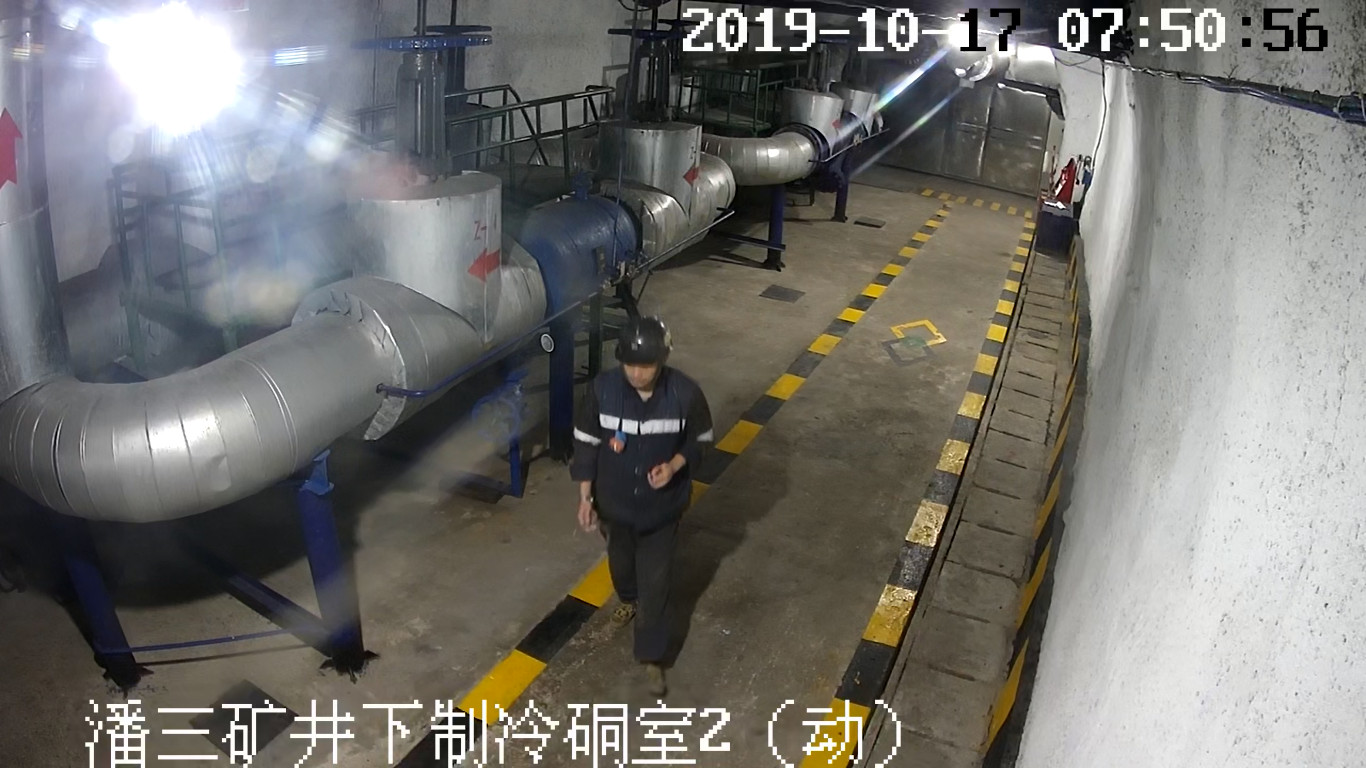helmet: (614, 313, 675, 364)
